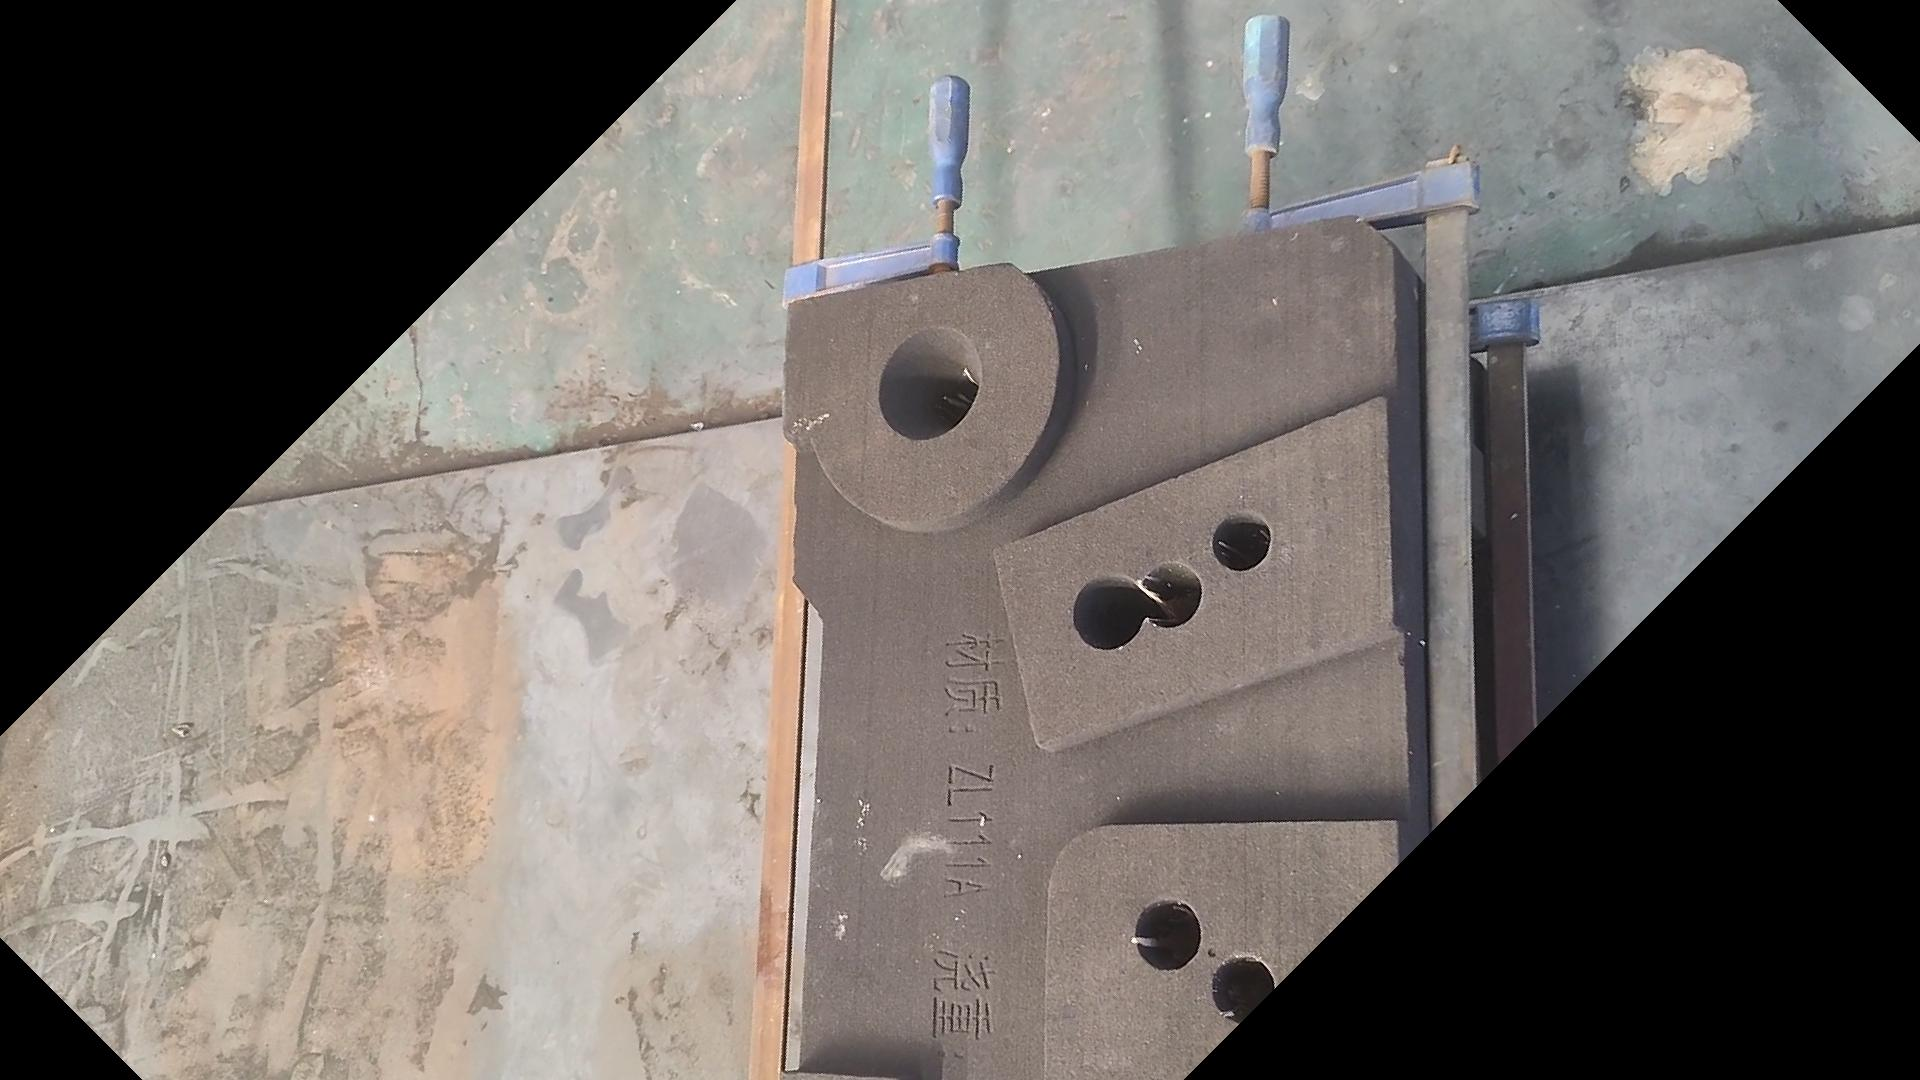pouring hole: (877, 326, 981, 440)
